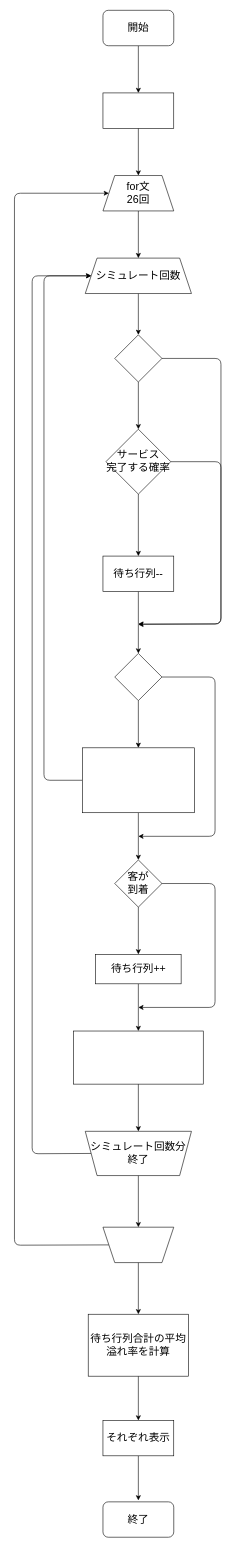
Image size: 236x1548. Some labels were removed from this diagram. The shapes that lost their labels are listed below. From the top down, each one's centre as x and y in pixels, then its label:
the point at 138,110: 初期化
the point at 138,358: 客が 存在
the point at 138,677: 客が 10人以上
the point at 138,780: 時間++ あふれ回数++ 待ち行列の 合計++ continue
the point at 138,1057: シミュレーション回数++ 待ち行列合計に現在の待ち行列を+
the point at 138,1245: for文 終了
